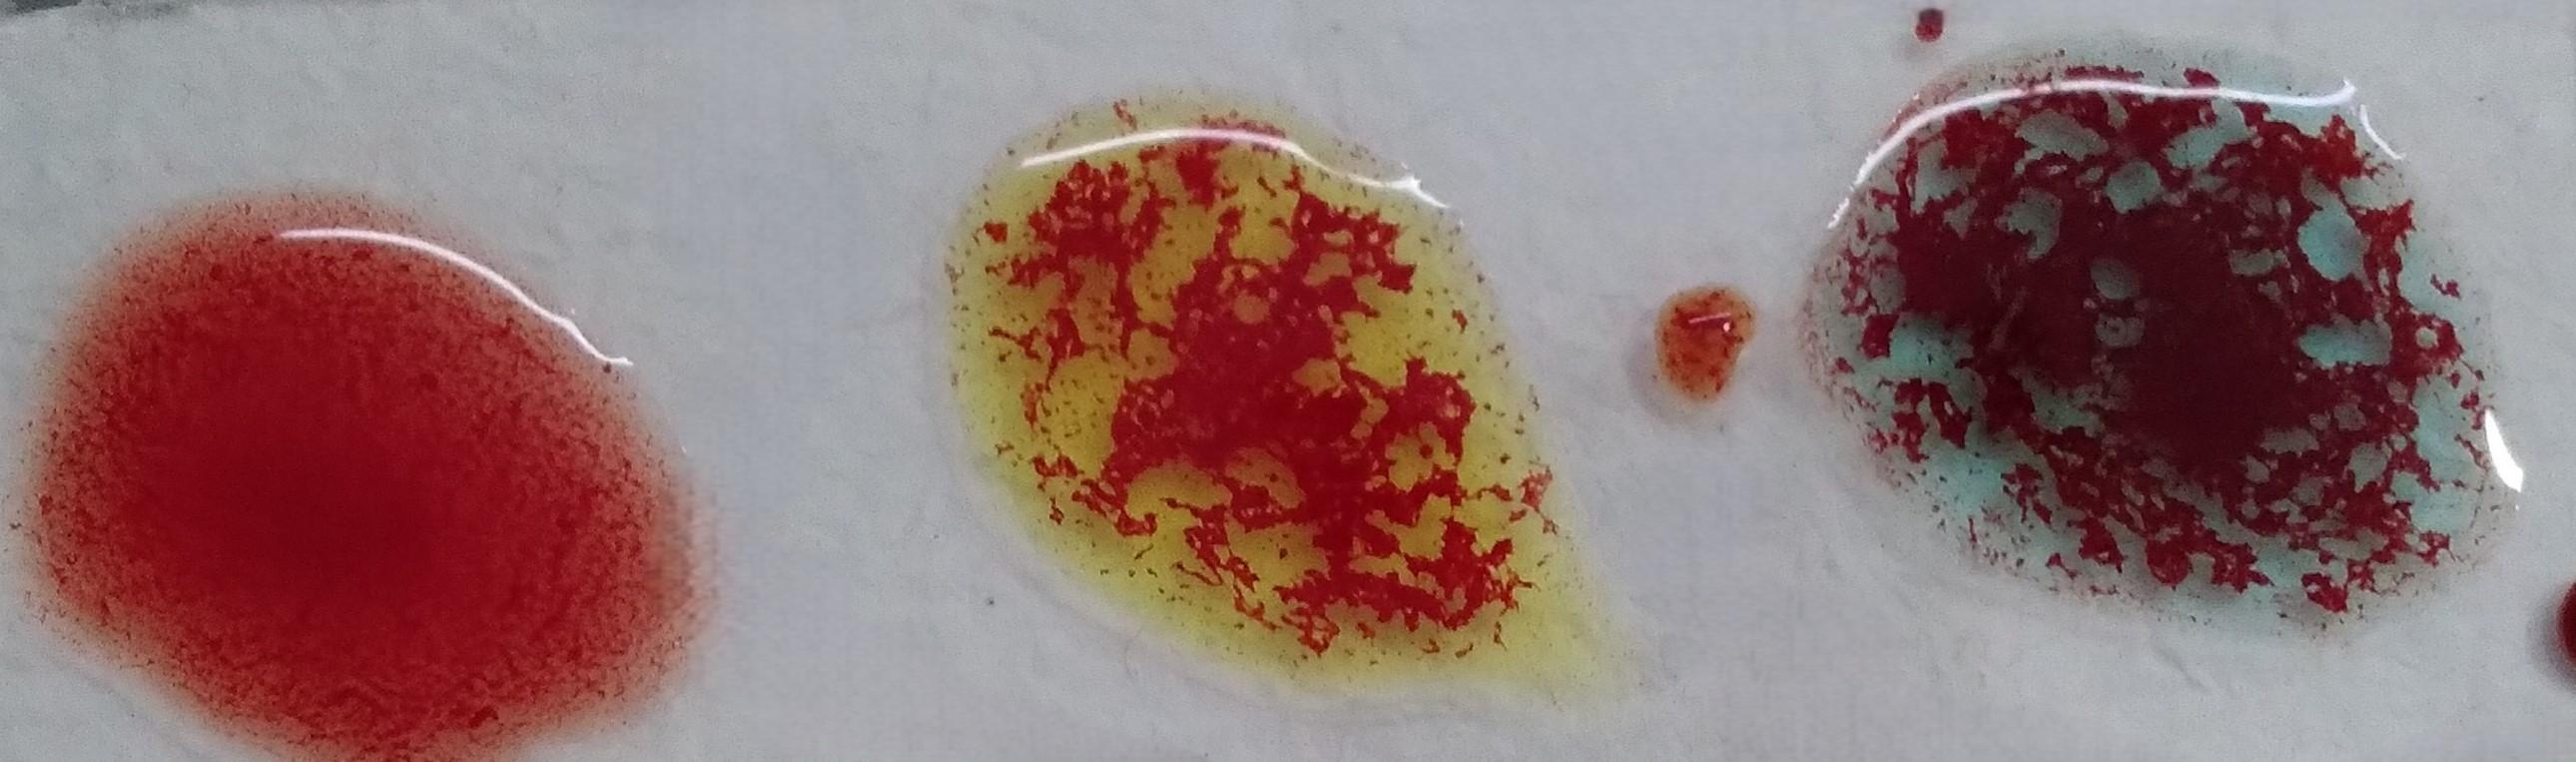A: (1840, 67, 2512, 639)
B: (955, 123, 1572, 719)
D: (51, 230, 674, 759)
